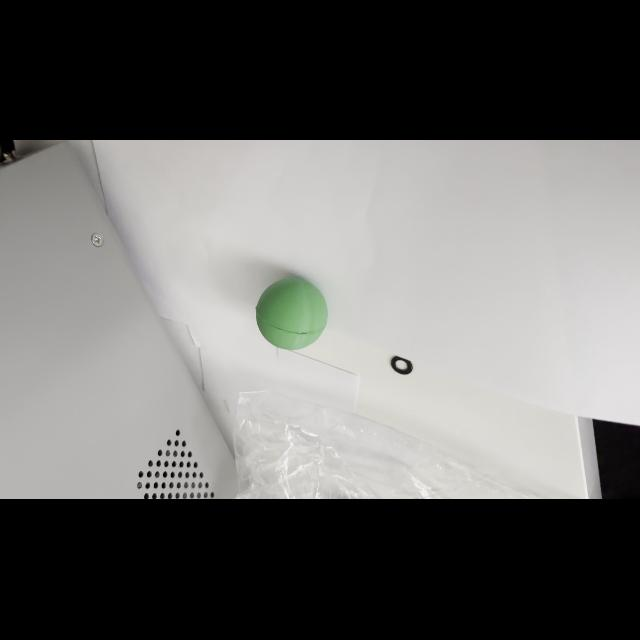objects: (248, 268, 334, 354)
